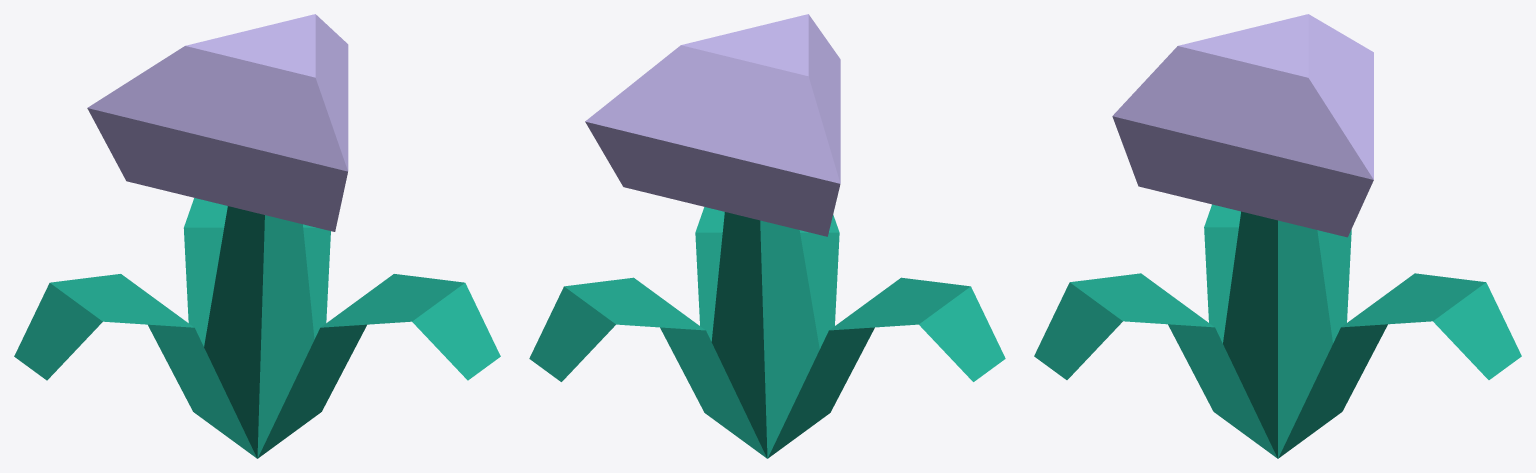
File: flower_purpleB.glb
3 views of the same model, side by side, from view 1: azimuth 30°, elevation 25°; view 2: azimuth 150°, elevation 25°; view 3: azimuth 270°, elevation 25° (orthographic). The views are drawn at different scales.
Visible parts, largest first — view 1: flower_purpleB; view 2: flower_purpleB; view 3: flower_purpleB.
Part boxes in pixels (box(x1,y1,x2,y2)): flower_purpleB: box(14, 14, 500, 458); flower_purpleB: box(529, 14, 1005, 458); flower_purpleB: box(1034, 14, 1521, 458).
Size of the model in its own units: 0.2073 by 0.2085 by 0.2392.
